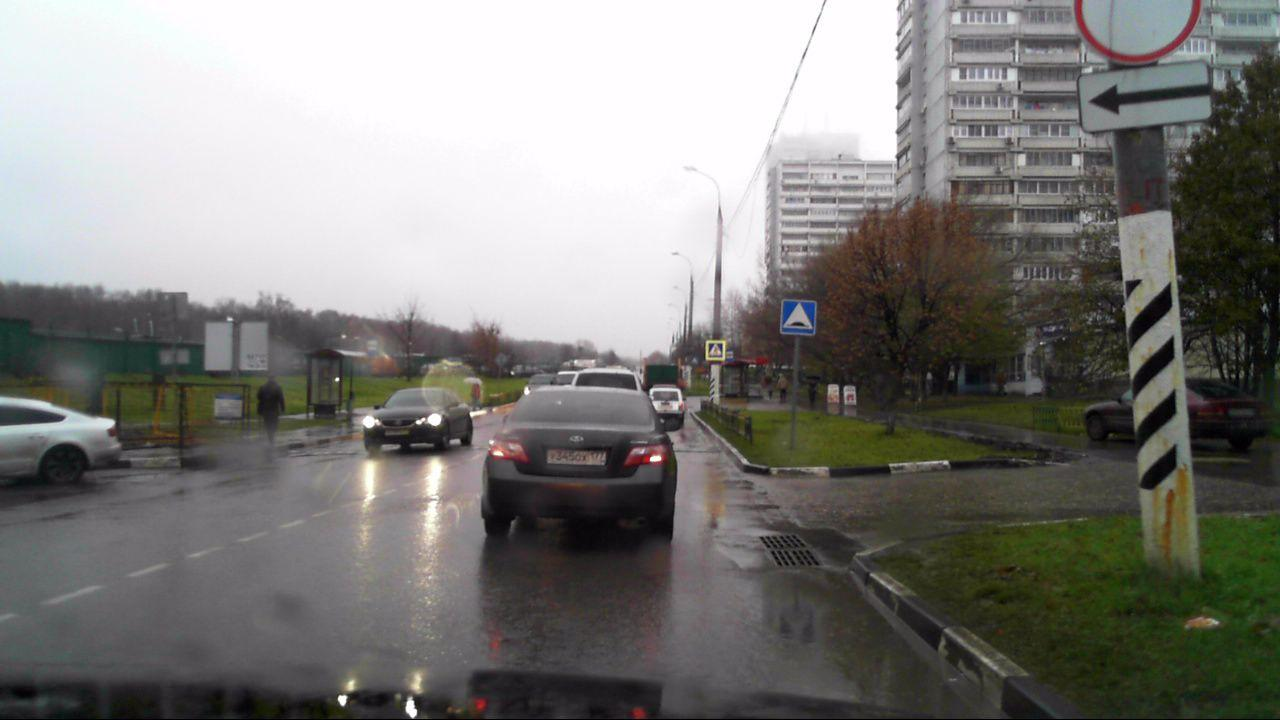3_2: (1073, 0, 1202, 62)
5_16: (368, 334, 381, 356), (727, 348, 736, 360)
5_19_1: (708, 342, 726, 359)
5_20: (780, 299, 816, 337)
8_3_2: (1077, 61, 1211, 131)
